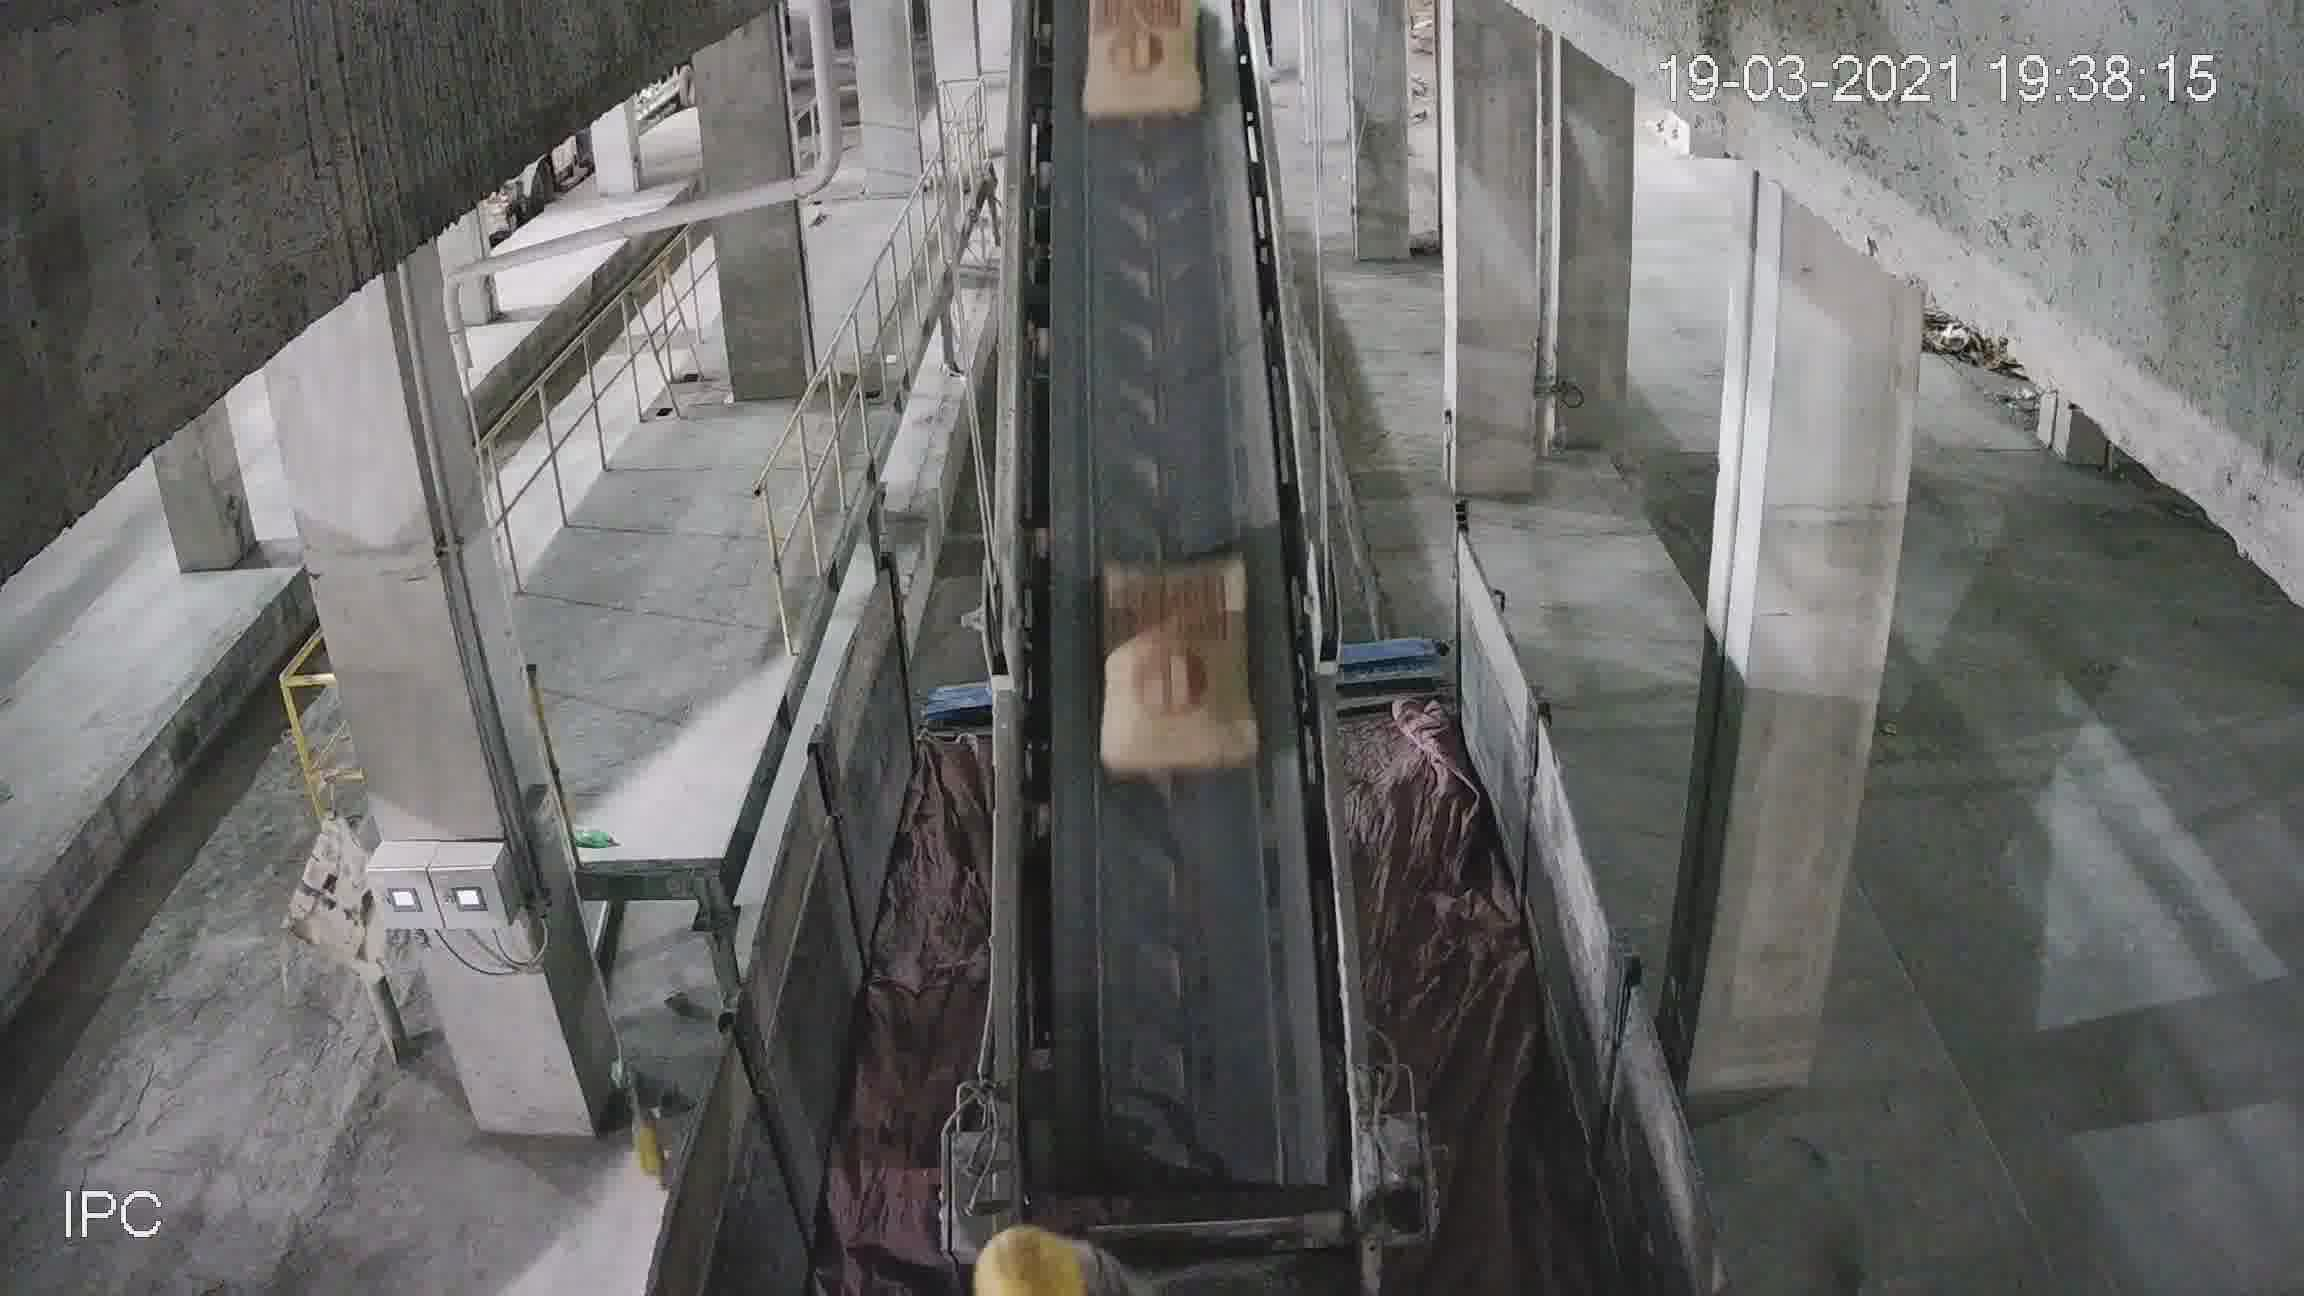bag: (1109, 563, 1256, 775), (1078, 25, 1204, 111)
belt: (1006, 59, 1329, 1174)
